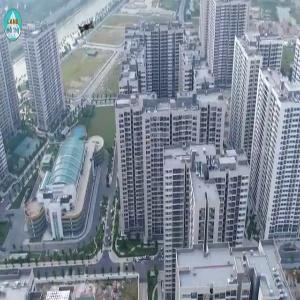drone: (63, 2, 116, 55)
